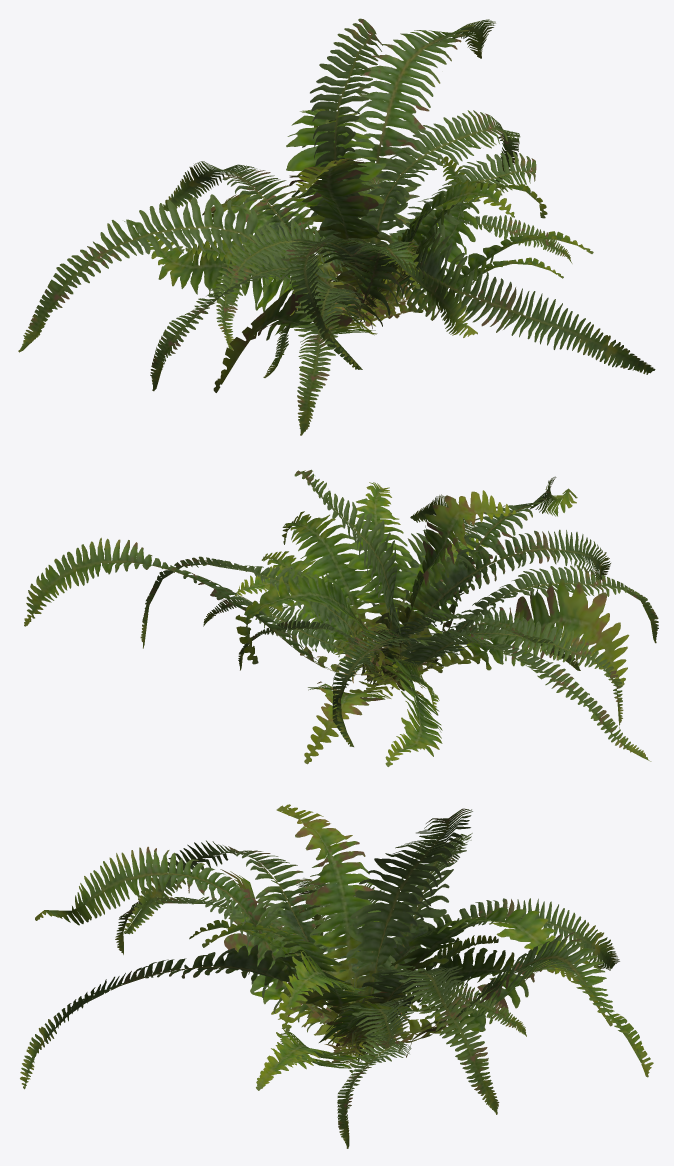
File: Forest_Fern.glb
3 renders of one model, top to bottom at view 1: azimuth 30°, elevation 25°; view 2: azimuth 150°, elevation 25°; view 3: azimuth 270°, elevation 25°, orthographic. The views are drawn at different scales.
Parts seen in each view (by area): view 1: Fern_V0_LOD0, Fern_V1_LOD0; view 2: Fern_V0_LOD0, Fern_V1_LOD0; view 3: Fern_V0_LOD0, Fern_V1_LOD0.
Part boxes in pixels (x1,y1,x2,y2): Fern_V0_LOD0: (18,18,655,435); Fern_V1_LOD0: (140,154,563,377); Fern_V0_LOD0: (24,469,658,764); Fern_V1_LOD0: (234,532,596,766); Fern_V0_LOD0: (20,804,653,1148); Fern_V1_LOD0: (189,883,602,1090).
Size of what is drawn, in the model's own units: 0.9897 by 0.4277 by 0.8937.
1 material, 1 textured.
